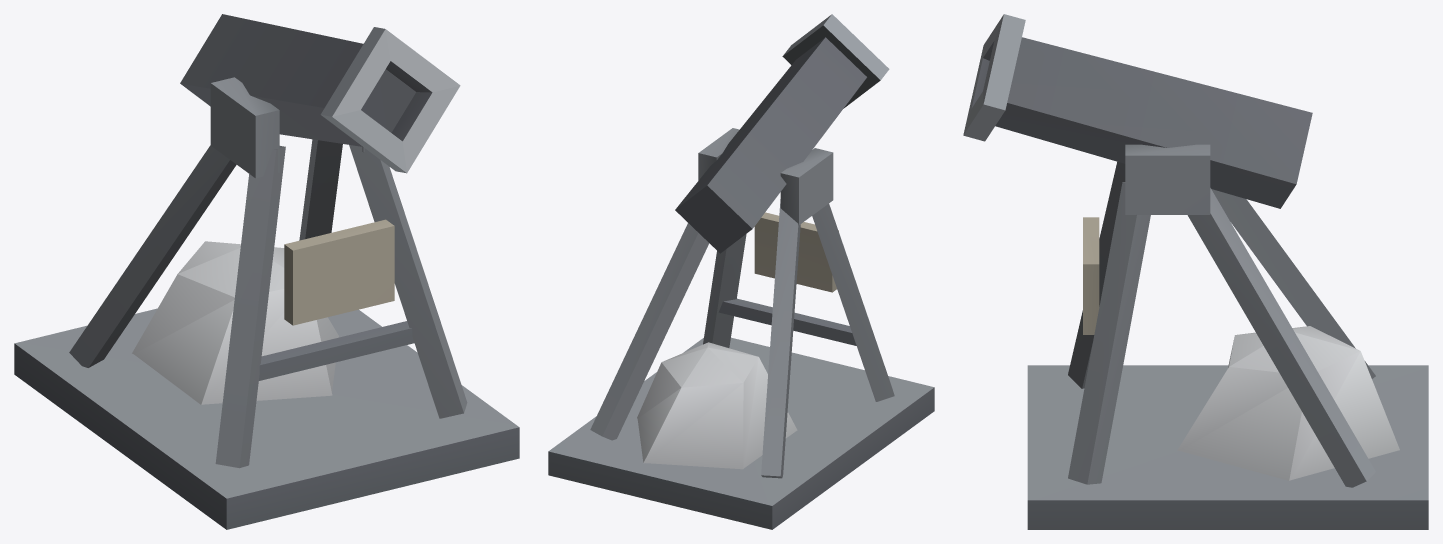
File: exploder.lod2.glb
The picture shows the model from 3 angles, left to right: view 1: azimuth 30°, elevation 25°; view 2: azimuth 150°, elevation 25°; view 3: azimuth 270°, elevation 25°; orthographic projection. The views are drawn at different scales.
Bounding box in the file's own units: 1.96 × 3.03 × 2.85.
